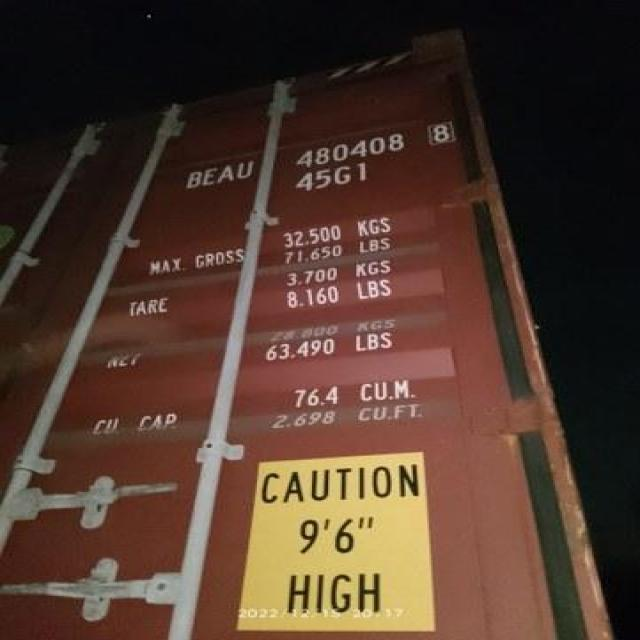ISO: (296, 165, 368, 192)
container_number: (188, 113, 456, 192), (262, 468, 416, 500)
